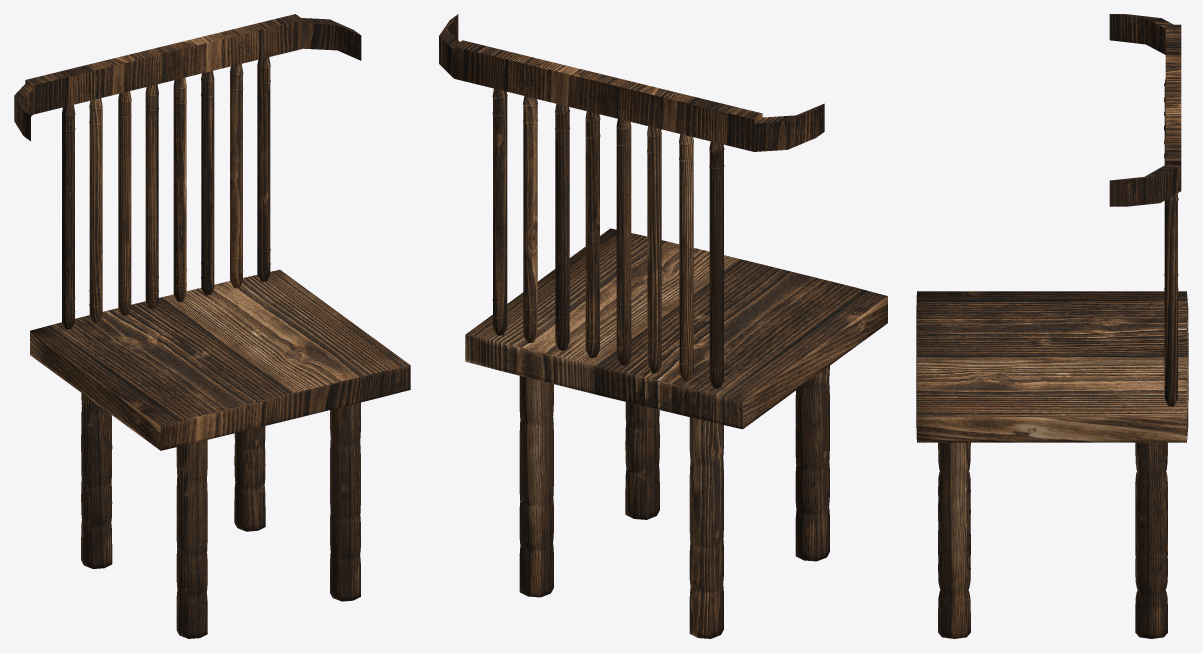
Rendered from cadira.FBX.
3 renders of one model, left to right at view 1: azimuth 30°, elevation 25°; view 2: azimuth 150°, elevation 25°; view 3: azimuth 270°, elevation 25°, orthographic. The views are drawn at different scales.
Visible parts, largest first — view 1: pota1, Object001, Object002; view 2: pota1, Object001, Object002; view 3: pota1, Object002, Object001.
Boxes of the visible parts, <box> form: pota1: <box>30,57,410,638</box>; Object001: <box>14,14,361,141</box>; Object002: <box>330,402,360,601</box>; pota1: <box>465,88,887,638</box>; Object001: <box>439,14,824,151</box>; Object002: <box>625,402,659,519</box>; pota1: <box>916,79,1188,638</box>; Object002: <box>938,442,970,638</box>; Object001: <box>1109,14,1181,206</box>.
Bounding box in the file's own units: 60.04 × 84.73 × 41.52.
Materials: 1 (1 with a texture image).
